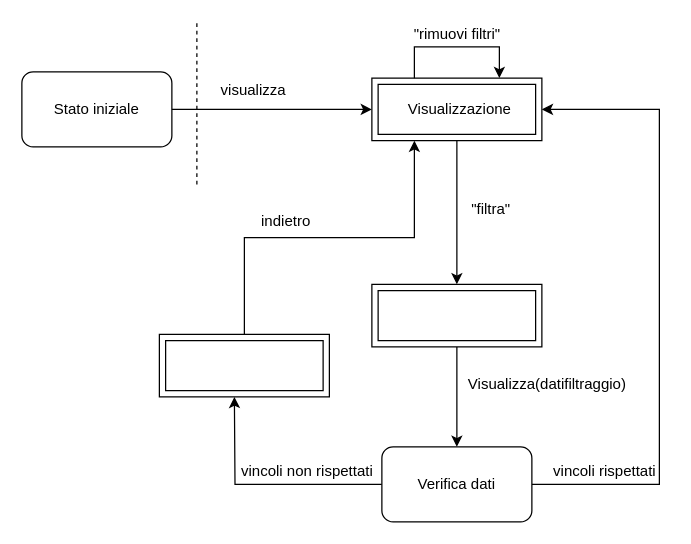
This 691x544 diagram has some shape labels left out. The shapes that lost their labels are listed below. From the top down, each one's centre as x and y in pixels, then its label:
pixel 456 315: Form filtraggio
pixel 243 365: Pagina di errore
